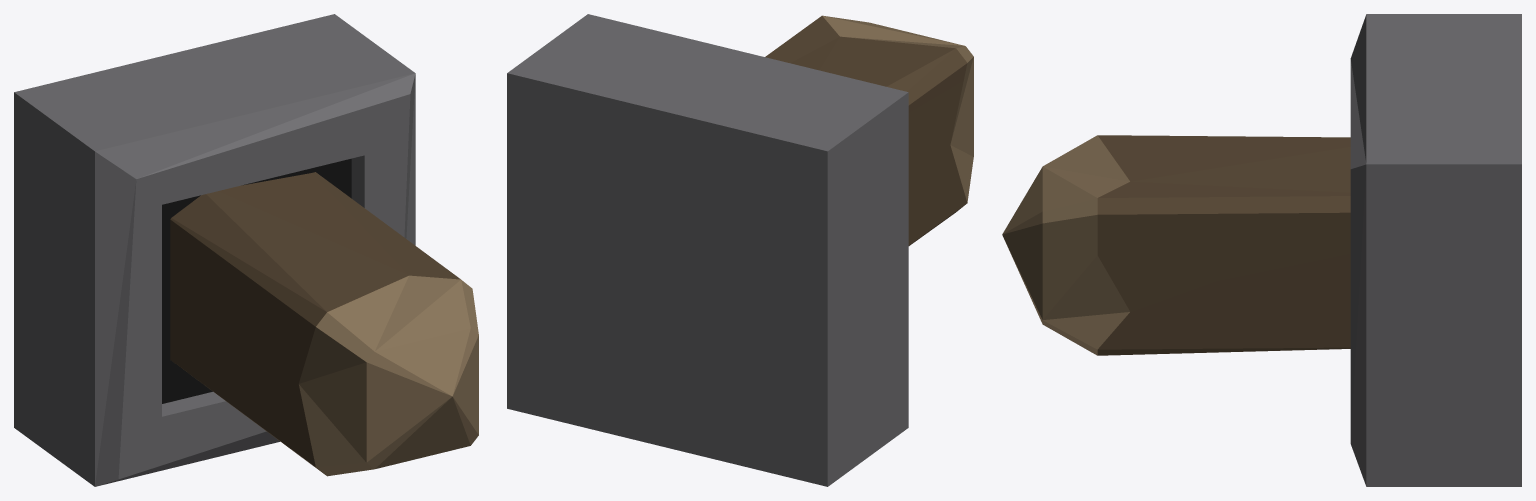
Rendered from SM_Bld_Castle_Wood_Detal_01.glb.
3 renders of one model, left to right at view 1: azimuth 30°, elevation 25°; view 2: azimuth 150°, elevation 25°; view 3: azimuth 270°, elevation 25°, orthographic. The views are drawn at different scales.
Parts seen in each view (by area): view 1: SM_Bld_Castle_Wood_Detal_01; view 2: SM_Bld_Castle_Wood_Detal_01; view 3: SM_Bld_Castle_Wood_Detal_01.
Part boxes in pixels (<box>): SM_Bld_Castle_Wood_Detal_01: <box>14,14,478,486</box>; SM_Bld_Castle_Wood_Detal_01: <box>507,14,973,486</box>; SM_Bld_Castle_Wood_Detal_01: <box>1002,14,1521,486</box>.
Size of the model in its own units: 0.2906 by 0.2906 by 0.4244.
Materials: 1 (1 with a texture image).
